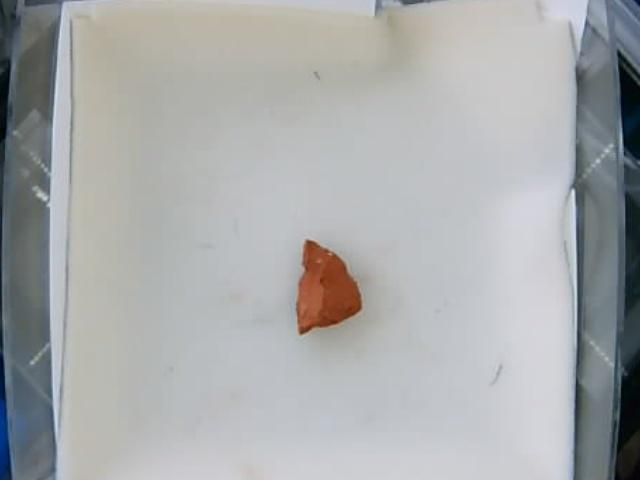Brisk: (297, 238, 365, 337)
